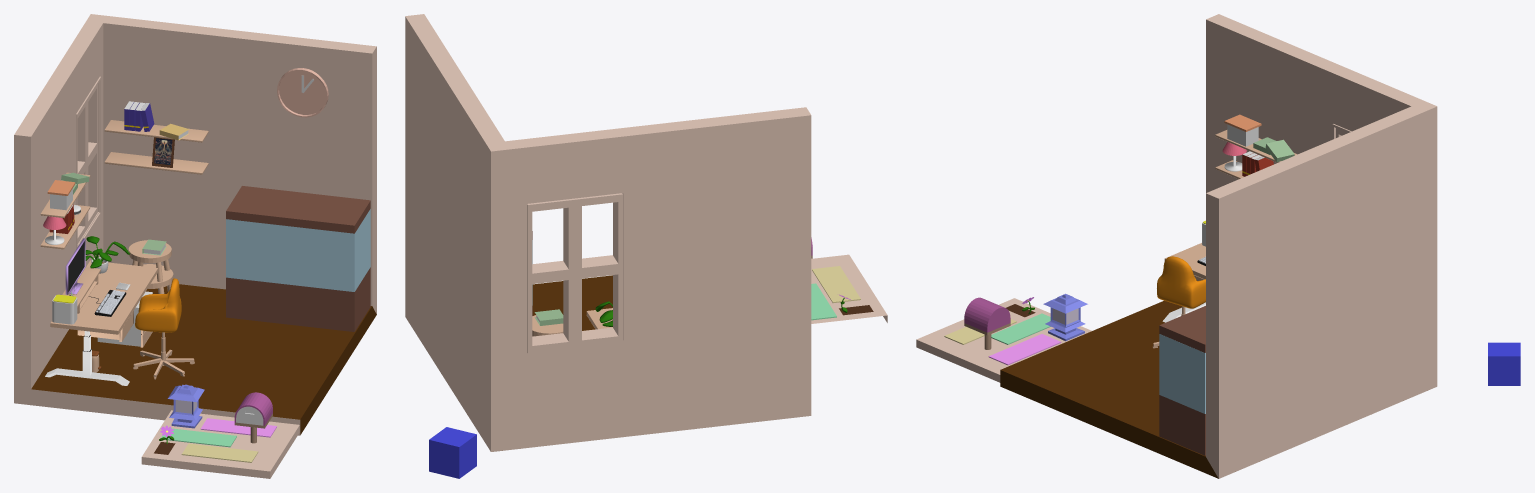
The model's file is tutorial.glb.
3 renders of one model, left to right at view 1: azimuth 30°, elevation 25°; view 2: azimuth 150°, elevation 25°; view 3: azimuth 270°, elevation 25°, orthographic. The views are drawn at different scales.
Visible parts, largest first — view 1: Body, tank, Shelves, tables, floor 2, table stuff, Clock, seat, floor stiff, mailbox, lamp, step3 (+3 smaller); view 2: Body, Cube, floor 2, step3, tables, table stuff, step2; view 3: Body, tank, floor 2, Shelves, seat, Cube, mailbox, lamp, step1, step2, tables.
Boxes of the visible parts, <box> form: Body: <box>14,14,376,435</box>; tank: <box>226,186,370,331</box>; Shelves: <box>40,101,208,249</box>; tables: <box>45,240,173,385</box>; floor 2: <box>141,410,299,478</box>; table stuff: <box>52,236,166,324</box>; Clock: <box>277,68,328,117</box>; seat: <box>135,278,181,332</box>; floor stiff: <box>92,291,194,379</box>; mailbox: <box>234,392,272,443</box>; lamp: <box>167,384,204,428</box>; step3: <box>181,443,258,462</box>; Body: <box>405,14,811,451</box>; Cube: <box>429,427,476,478</box>; floor 2: <box>811,254,887,323</box>; step3: <box>812,266,860,303</box>; tables: <box>532,308,612,336</box>; table stuff: <box>534,301,612,326</box>; step2: <box>811,283,836,320</box>; Body: <box>1000,14,1437,478</box>; tank: <box>1159,306,1205,455</box>; floor 2: <box>916,298,1091,382</box>; Shelves: <box>1215,114,1297,178</box>; seat: <box>1157,256,1205,308</box>; Cube: <box>1488,342,1520,385</box>; mailbox: <box>964,297,1010,349</box>; lamp: <box>1043,293,1087,341</box>; step1: <box>988,334,1061,365</box>; step2: <box>991,313,1050,344</box>; tables: <box>1162,243,1205,322</box>.
Size of what is drawn, in the model's own units: 26.73 by 18.9 by 36.95.
Materials: 55 (1 with a texture image).
